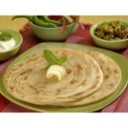parota: (5, 47, 101, 102), (55, 45, 121, 105)
